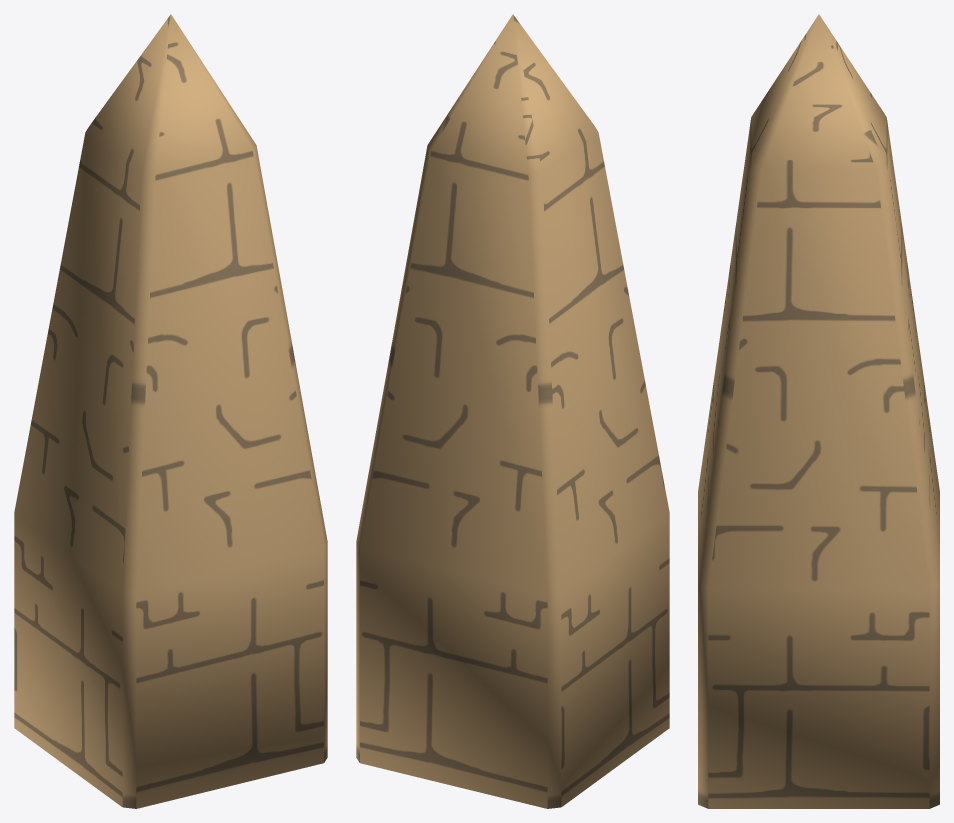
File: Mesh_PointyPillar.glb
The picture shows the model from 3 angles, left to right: view 1: azimuth 30°, elevation 25°; view 2: azimuth 150°, elevation 25°; view 3: azimuth 270°, elevation 25°; orthographic projection. The views are drawn at different scales.
Visible parts, largest first — view 1: Cube.007; view 2: Cube.007; view 3: Cube.007.
Part boxes in pixels (box(x1,y1,x2,y2)): Cube.007: box(14, 14, 327, 808); Cube.007: box(356, 14, 669, 808); Cube.007: box(698, 14, 939, 808).
Bounding box in the file's own units: 6.22 × 21.09 × 6.22.
1 material, 1 textured.
